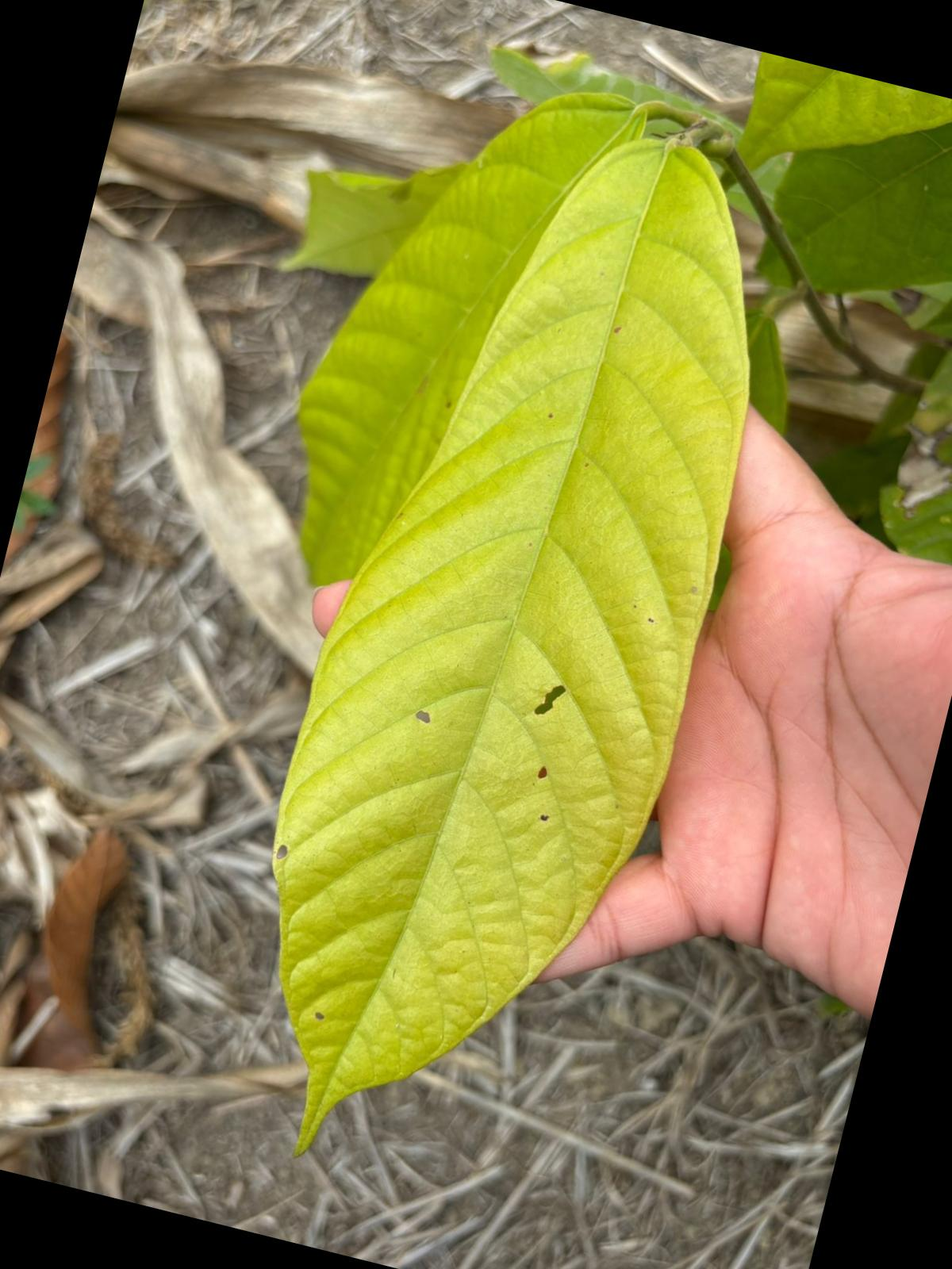Nitrogeno: (275, 140, 749, 1150)
